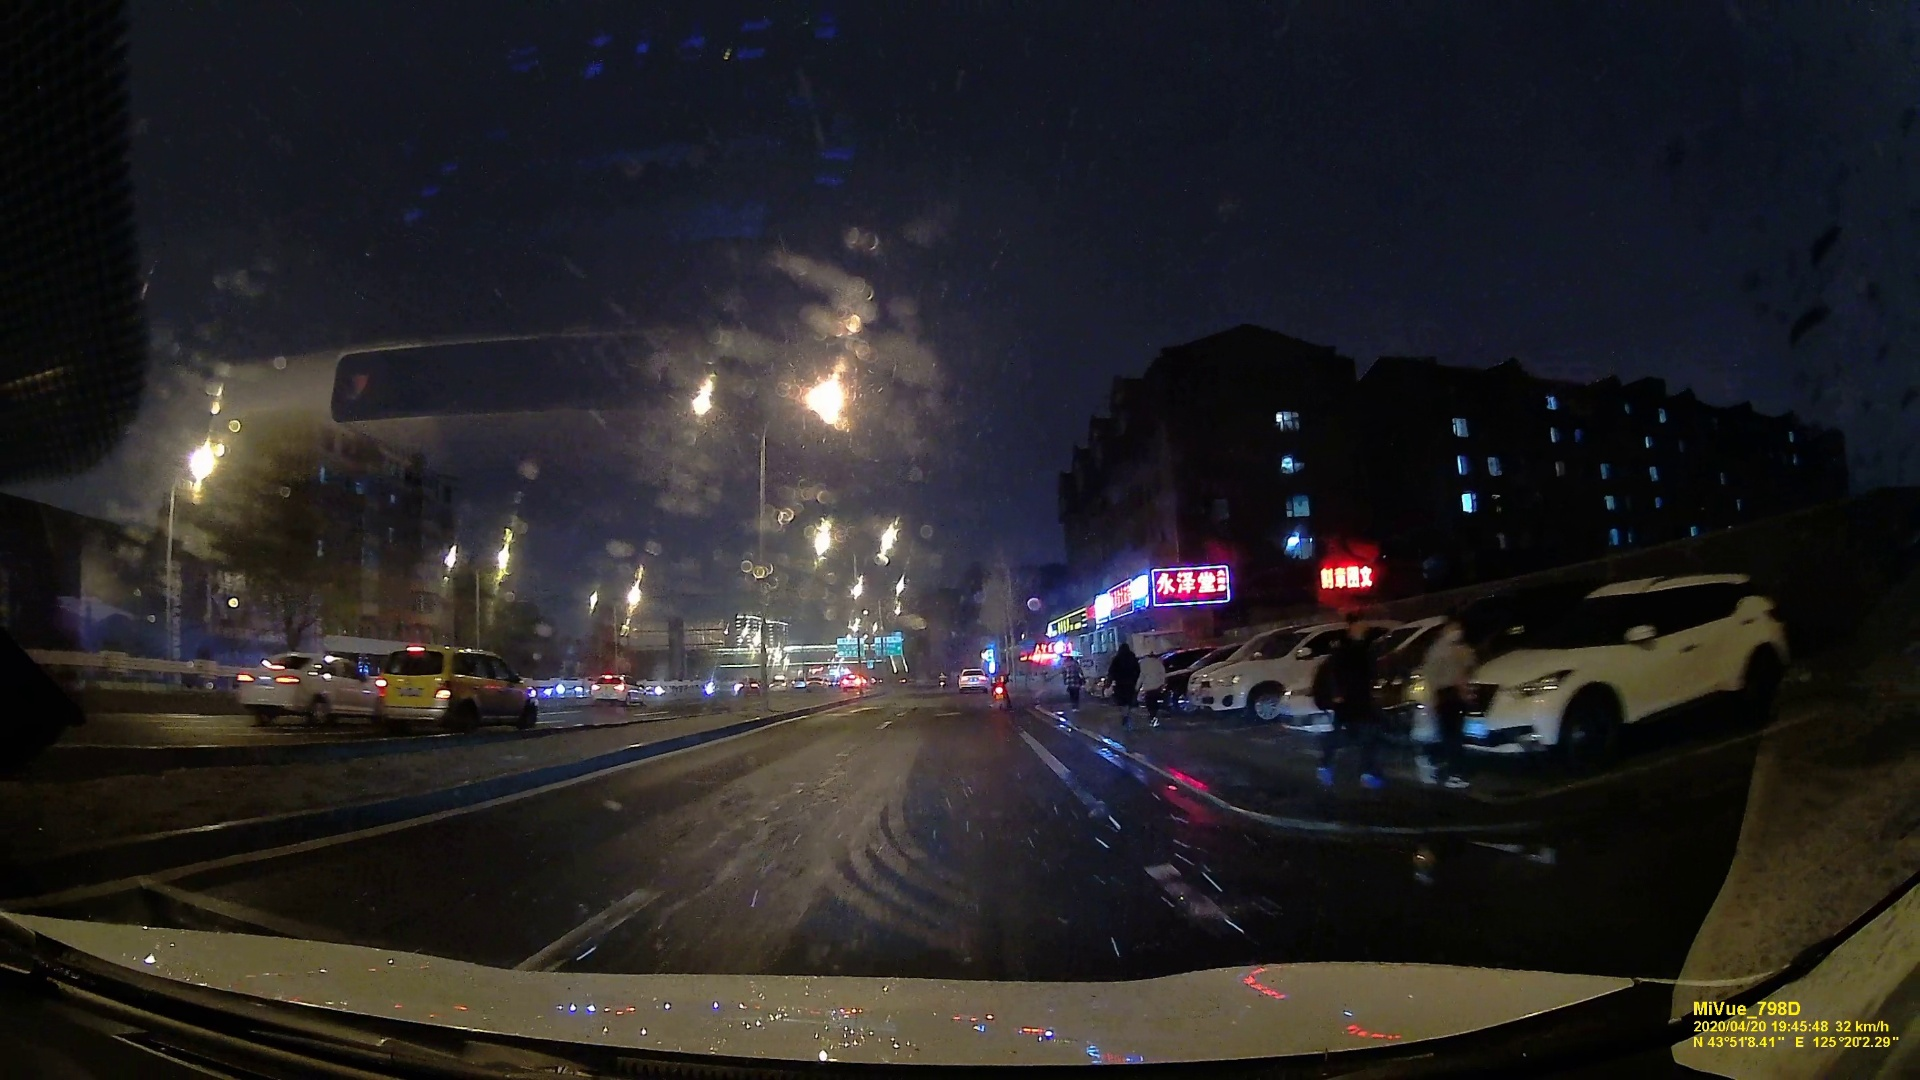person: (1321, 615, 1391, 794), (1420, 618, 1480, 787), (1105, 636, 1135, 729), (1139, 645, 1173, 724), (1060, 651, 1087, 713)
traffic_sign: (874, 637, 899, 655), (836, 638, 863, 655)
vehicle: (1479, 572, 1771, 762), (363, 641, 535, 728), (226, 650, 372, 719), (589, 671, 646, 708), (957, 668, 989, 694)
